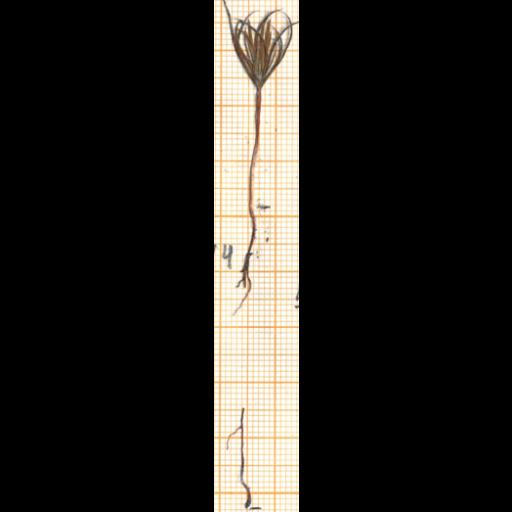flowerPinus: (223, 0, 292, 89)
rootPinus: (233, 209, 256, 316)
stemPinus: (249, 87, 260, 211)
